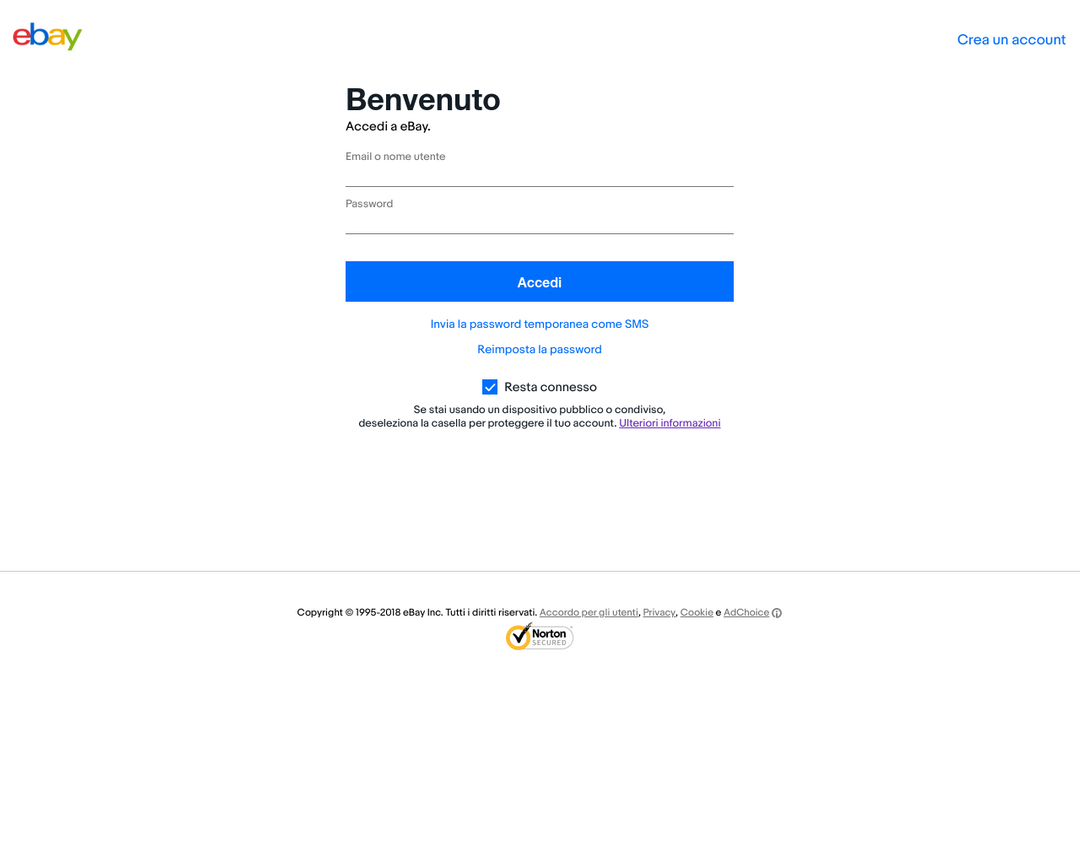Ebay: (10, 20, 86, 54)
